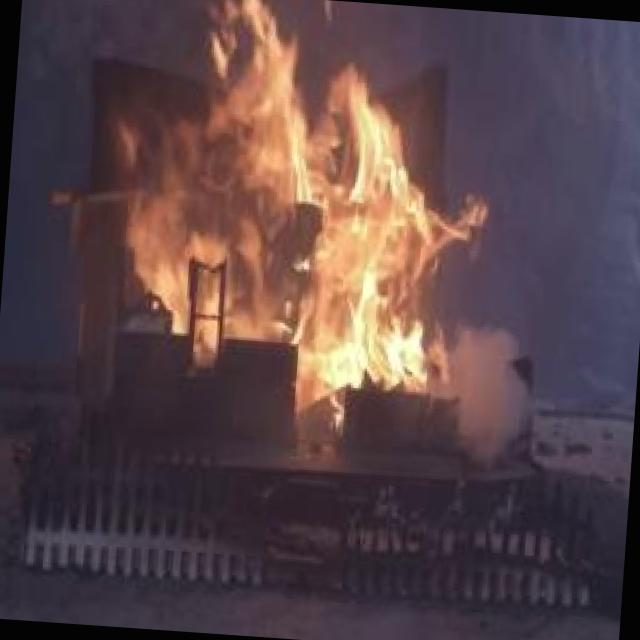fire: (74, 0, 529, 391)
